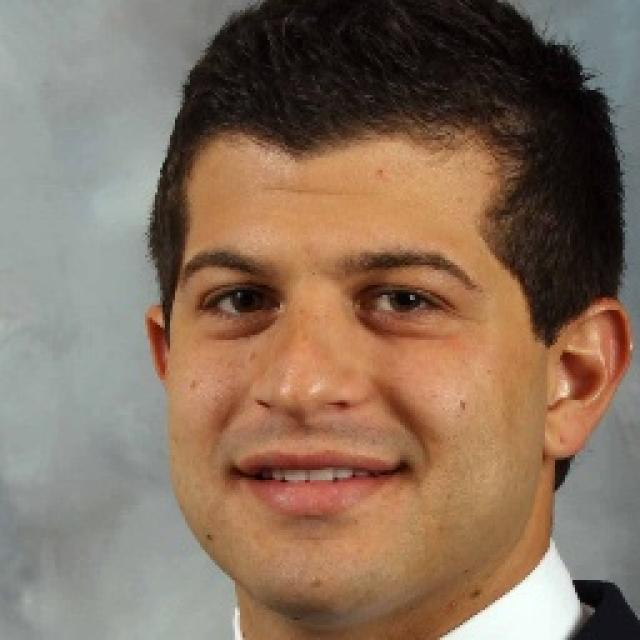earlobe: (542, 298, 632, 462), (144, 306, 174, 398)
